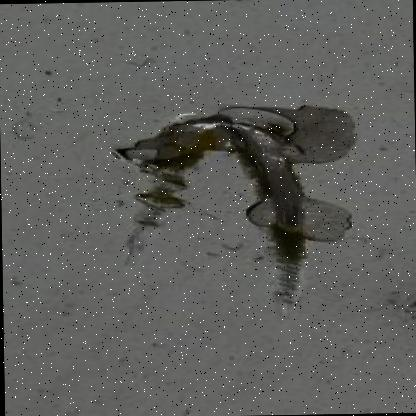Crack: (54, 74, 393, 318)
